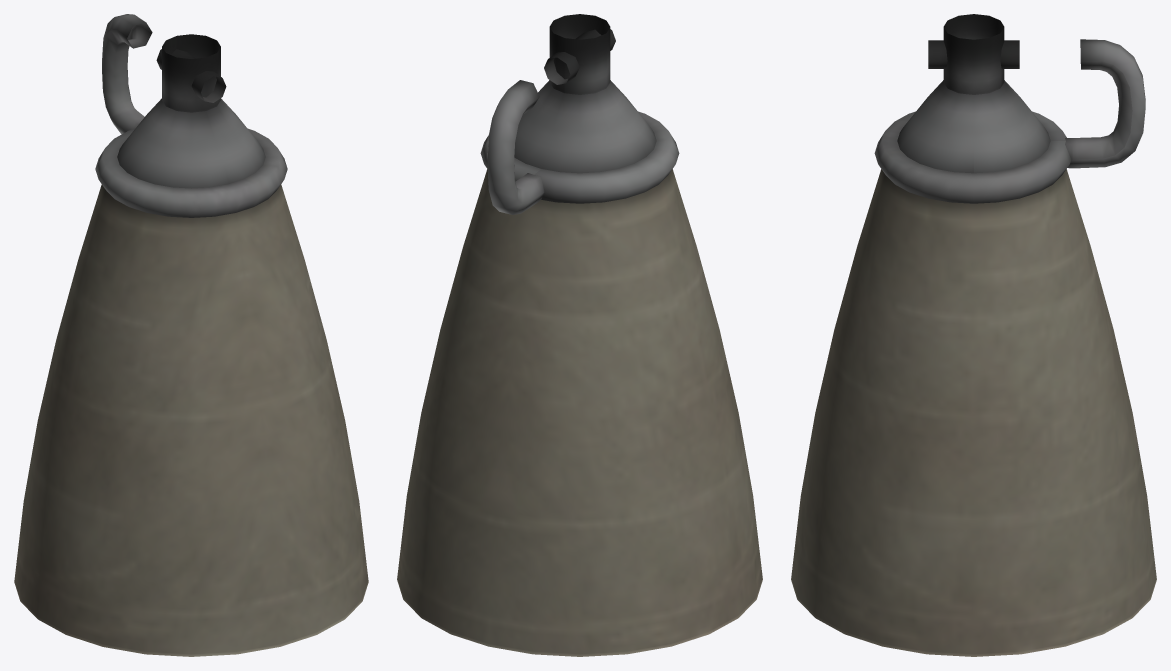
File: rd8_nozzle.obj
The picture shows the model from 3 angles, left to right: view 1: azimuth 30°, elevation 25°; view 2: azimuth 150°, elevation 25°; view 3: azimuth 270°, elevation 25°; orthographic projection. The views are drawn at different scales.
Parts seen in each view (by area): view 1: 1; view 2: 1; view 3: 1.
Part boxes in pixels (x1,y1,x2,y2): 1: [14, 14, 368, 656]; 1: [397, 14, 762, 656]; 1: [791, 14, 1156, 656].
Bounding box in the file's own units: 0.3 × 0.5 × 0.3.
1 material, 1 textured.
